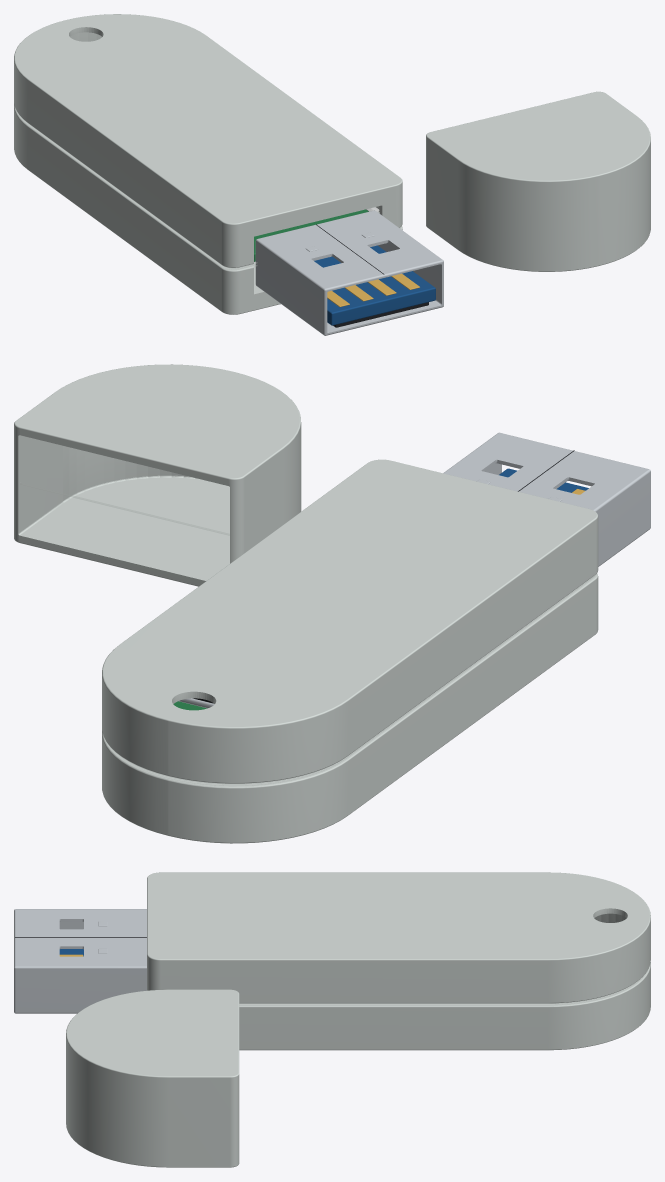
The model's file is lilygo-t-dongle-s3-3d-exploded.glb.
3 views of the same model, one above another, from view 1: azimuth 30°, elevation 25°; view 2: azimuth 150°, elevation 25°; view 3: azimuth 270°, elevation 25° (orthographic). The views are drawn at different scales.
Visible parts, largest first — view 1: Front clear lid, Removable transparent USB cap, USB-A folded metal shell, Rear clear tray, USB blue tongue, FR4 main PCB; view 2: Front clear lid, Removable transparent USB cap, Rear clear tray, USB-A folded metal shell, Housing seam; view 3: Front clear lid, Removable transparent USB cap, Rear clear tray, USB-A folded metal shell.
Boxes of the visible parts, bbox=[...] form: Front clear lid: bbox=[14, 14, 402, 267]; Removable transparent USB cap: bbox=[426, 91, 650, 271]; USB-A folded metal shell: bbox=[255, 210, 443, 335]; Rear clear tray: bbox=[14, 103, 402, 314]; USB blue tongue: bbox=[314, 245, 435, 325]; FR4 main PCB: bbox=[254, 209, 368, 261]; Front clear lid: bbox=[102, 459, 598, 783]; Removable transparent USB cap: bbox=[14, 364, 301, 586]; Rear clear tray: bbox=[102, 573, 598, 843]; USB-A folded metal shell: bbox=[443, 432, 650, 566]; Housing seam: bbox=[104, 575, 596, 786]; Front clear lid: bbox=[147, 872, 650, 1003]; Removable transparent USB cap: bbox=[66, 989, 239, 1167]; Rear clear tray: bbox=[239, 962, 650, 1050]; USB-A folded metal shell: bbox=[14, 909, 146, 1013].
Size of the model in its own units: 0.0419 by 0.0087 by 0.0551.
